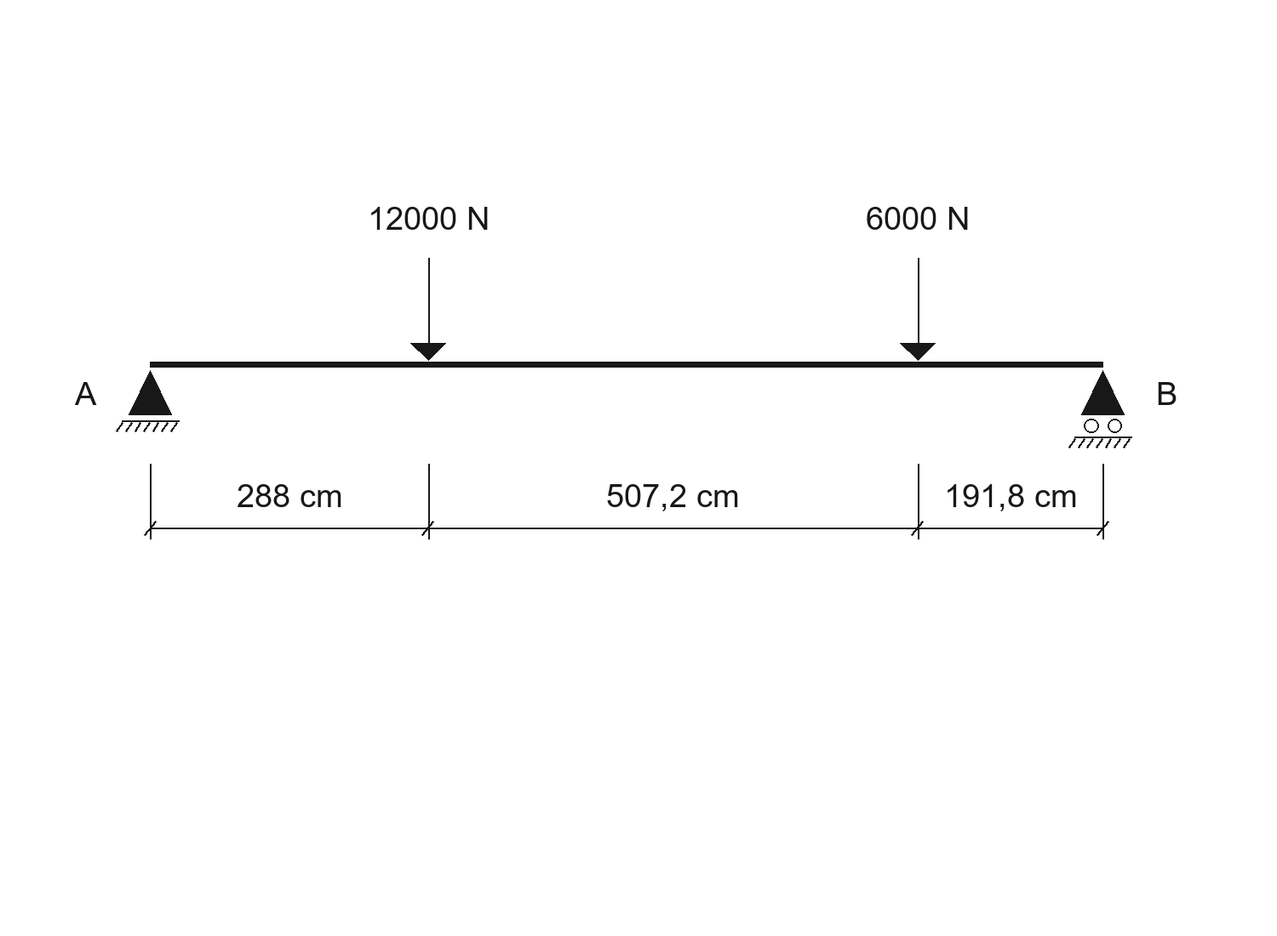pin_support: (116, 370, 180, 432)
point_load: (410, 258, 446, 361), (900, 258, 936, 361)
roller_support: (1068, 370, 1132, 448)
